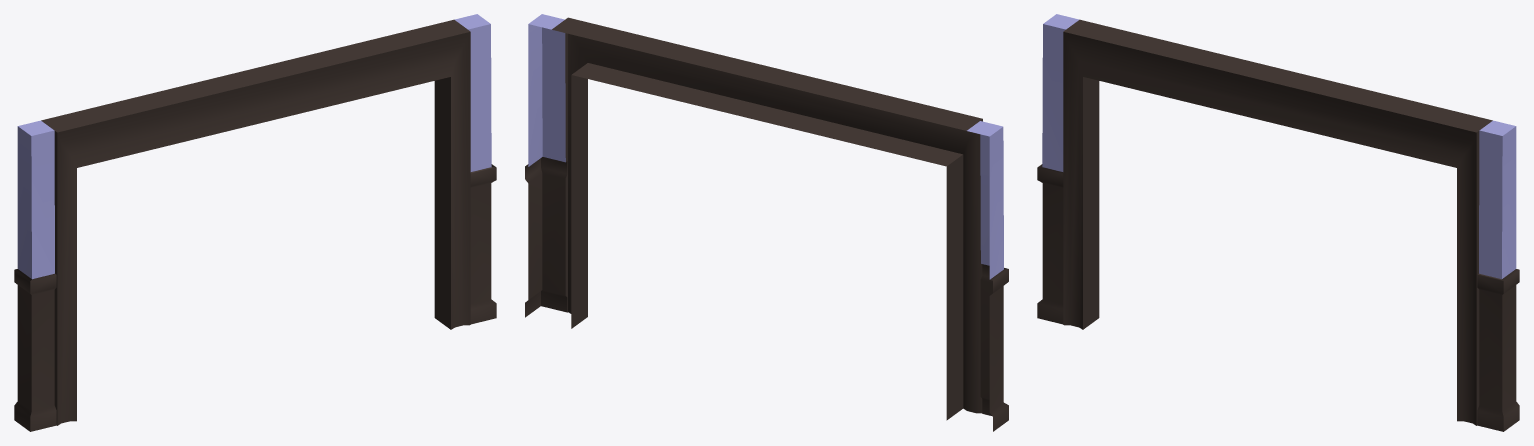
Rendered from Double Door Frame.fbx.
3 renders of one model, left to right at view 1: azimuth 30°, elevation 25°; view 2: azimuth 150°, elevation 25°; view 3: azimuth 330°, elevation 25°, orthographic.
Parts seen in each view (by area): view 1: pCube8; view 2: pCube8; view 3: pCube8.
Boxes of the visible parts, x1,y1,x2,y2 form: pCube8: (14,14,496,431); pCube8: (525,14,1008,431); pCube8: (1037,14,1519,431).
Size of the model in its own units: 212 by 128 by 13.
